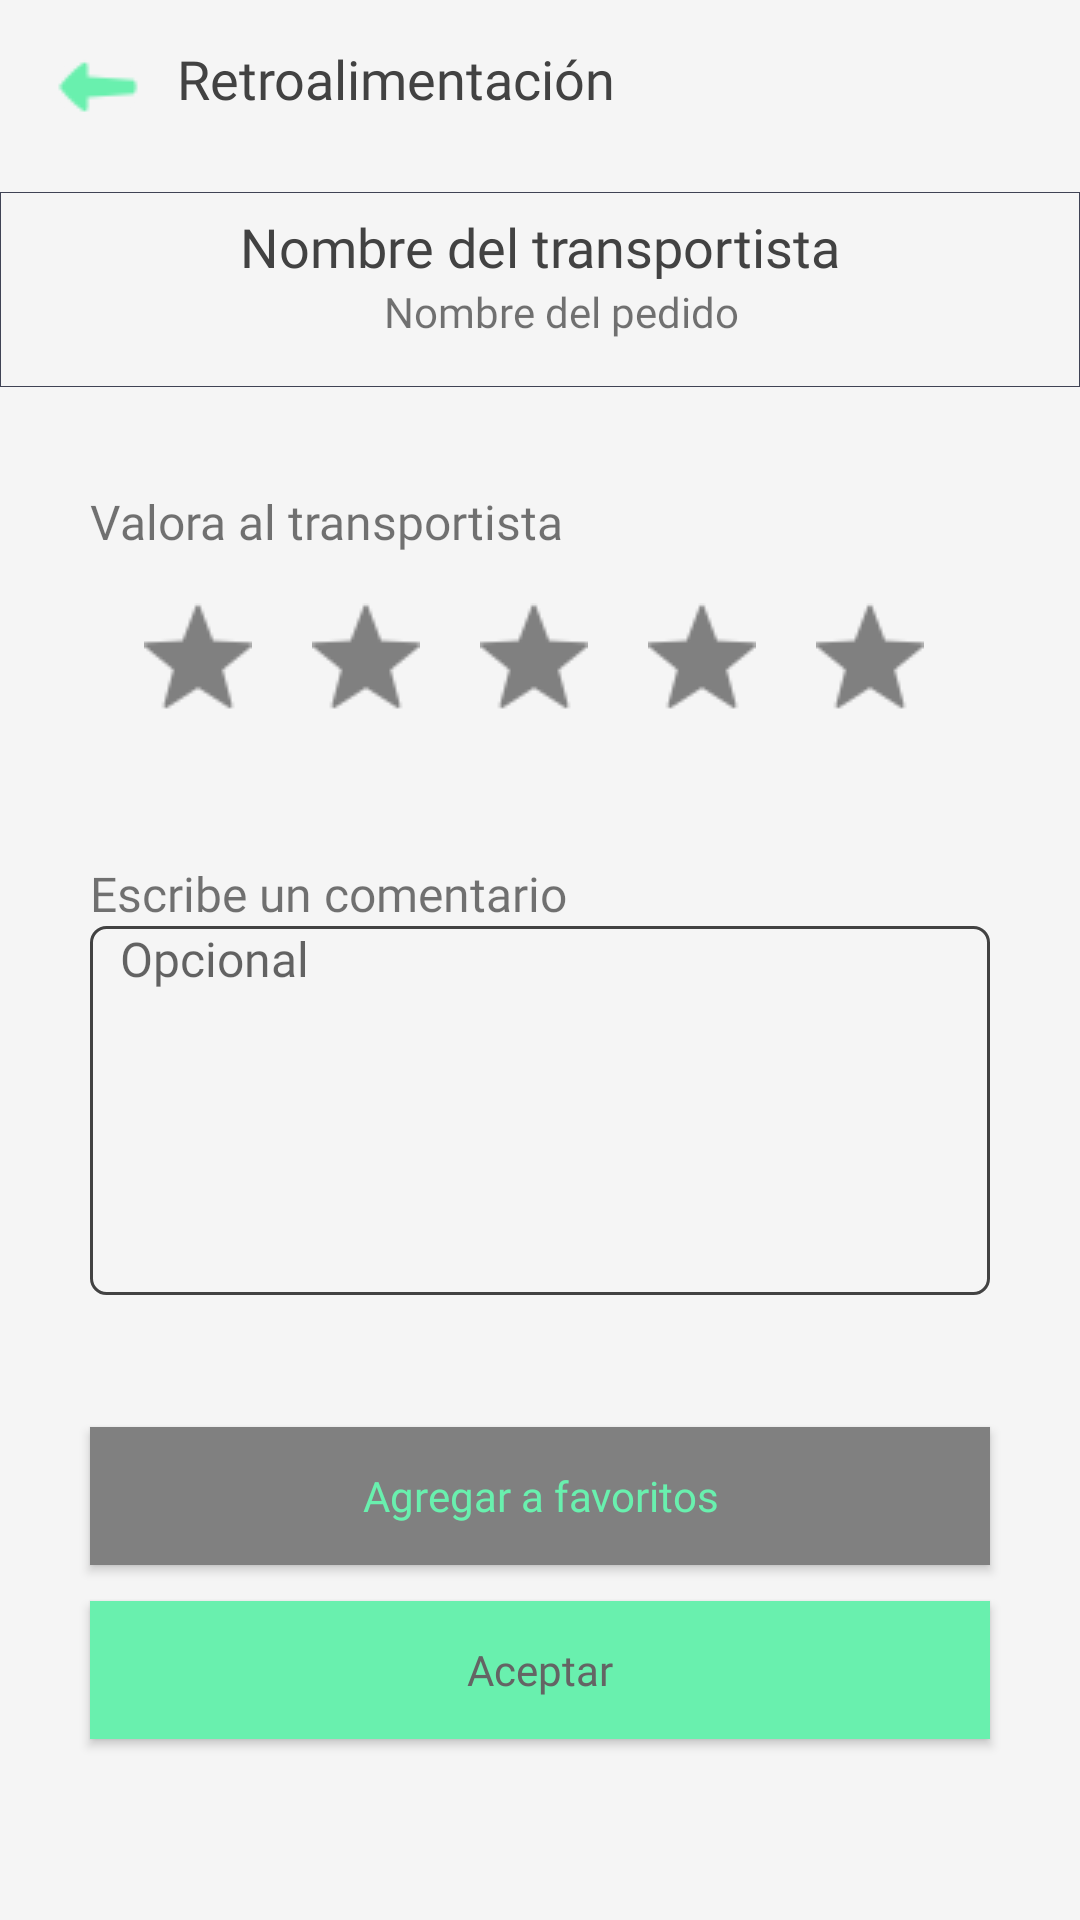

Point at icon controls on the screen. Image size 1080px x 1920px, points as (x=x, y=y).
back: (x=98, y=87)
star: (x=198, y=657), (x=366, y=657), (x=534, y=657), (x=702, y=657), (x=870, y=657)
